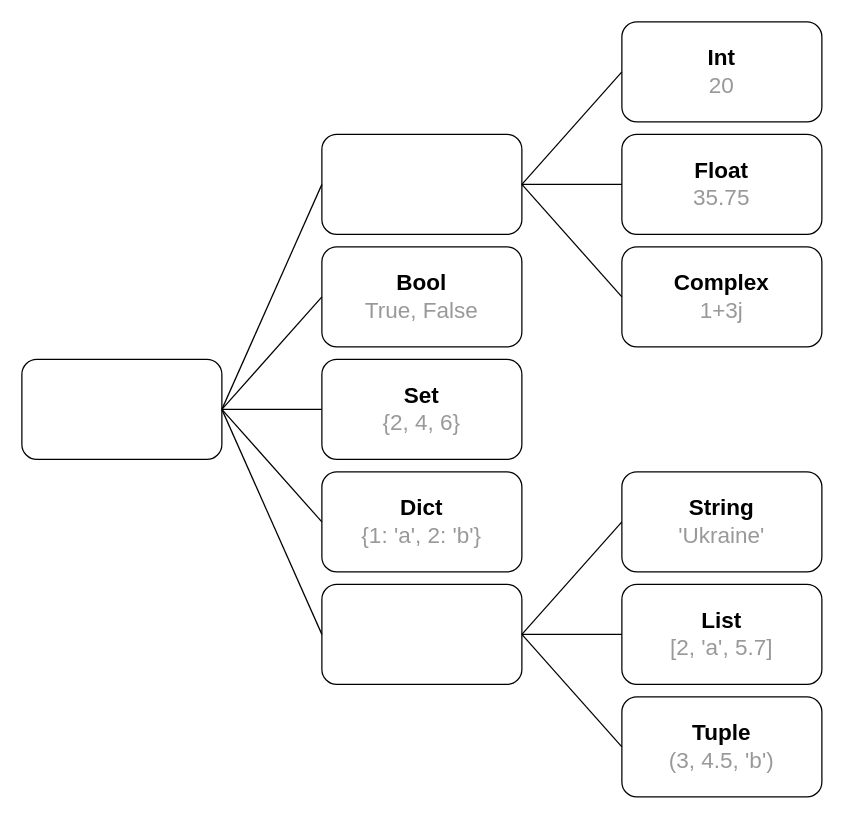
Image size: 844x819. Some labels were removed from this diagram. Here are the shapes that lost their labels. From the top down, the centre of each, then its label:
At point (421, 183): "Numbers".
At point (121, 408): "Python Data Types".
At point (421, 633): "Sequence".
